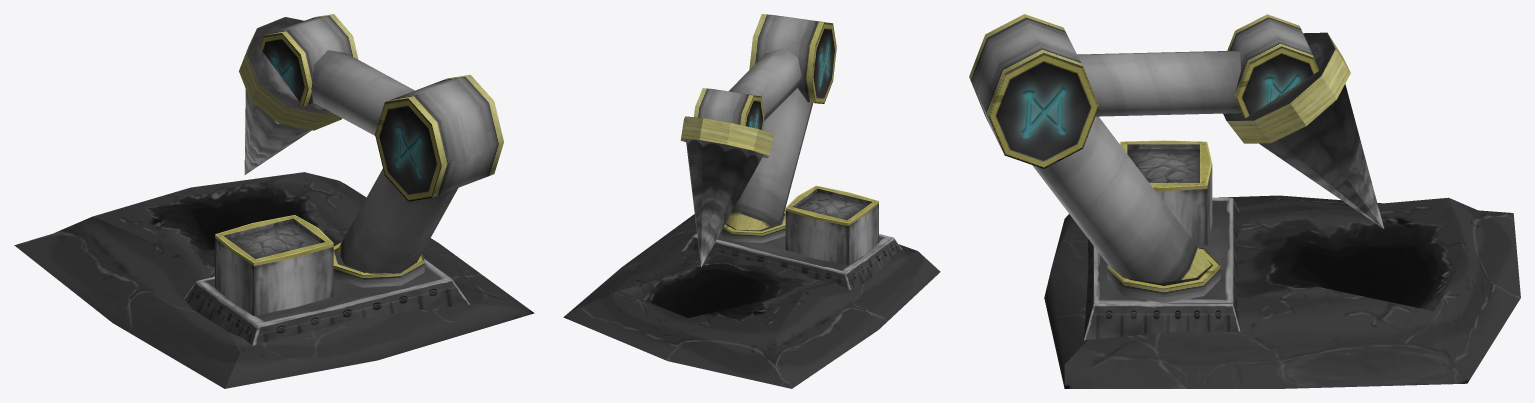
File: mine5.FBX
3 views of the same model, side by side, from view 1: azimuth 30°, elevation 25°; view 2: azimuth 150°, elevation 25°; view 3: azimuth 270°, elevation 25° (orthographic). The views are drawn at different scales.
Parts seen in each view (by area): view 1: mine5, mine5onderdeel2; view 2: mine5, mine5onderdeel2; view 3: mine5, mine5onderdeel2.
Part boxes in pixels (x1,y1,x2,y2): mine5: [184, 14, 503, 345]; mine5onderdeel2: [14, 172, 534, 388]; mine5: [680, 14, 902, 289]; mine5onderdeel2: [563, 214, 940, 388]; mine5: [969, 14, 1384, 340]; mine5onderdeel2: [1044, 195, 1520, 388].
Bounding box in the file's own units: 89.8 × 69.23 × 117.
